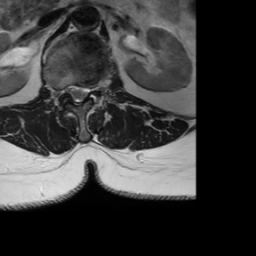CCS_normal: (74, 78, 81, 112)
LFS_stenosis: (89, 77, 97, 99)
LLS_normal: (81, 79, 89, 105)
RFS_stenosis: (59, 79, 66, 103)
RLS_normal: (66, 78, 74, 103)
